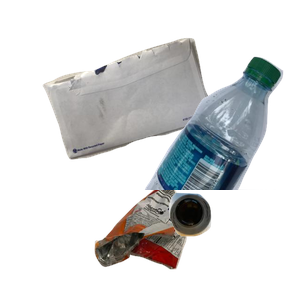glass: (166, 190, 300, 300)
paper: (40, 35, 249, 187)
plastic: (142, 54, 300, 234)
trash: (92, 174, 272, 300)
